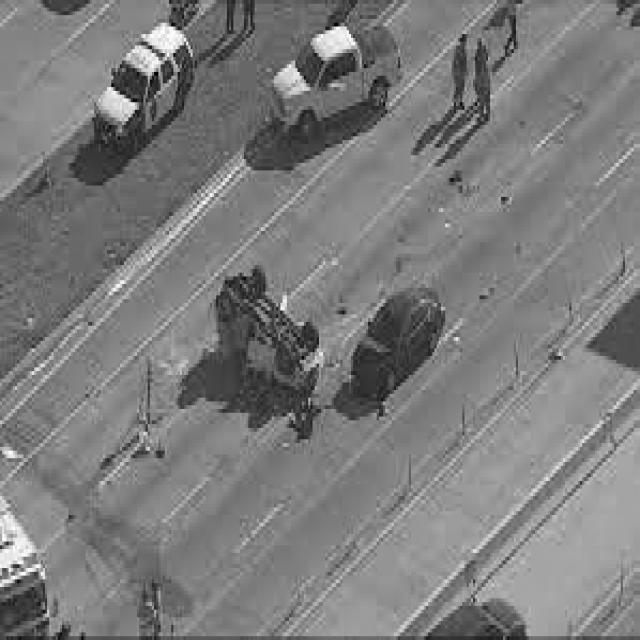accident: (219, 262, 324, 402)
vehicle: (271, 22, 404, 144), (85, 21, 201, 155), (352, 283, 448, 400), (423, 596, 530, 640)
